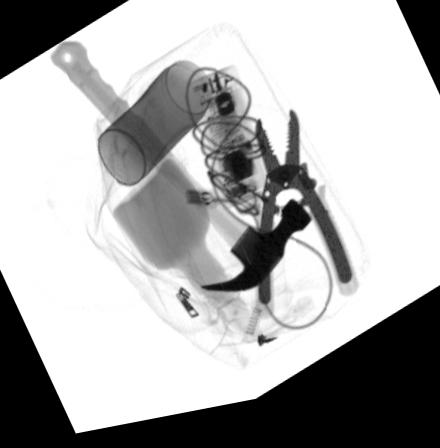Hammer: (48, 41, 313, 301)
Pliers: (255, 120, 360, 328)
